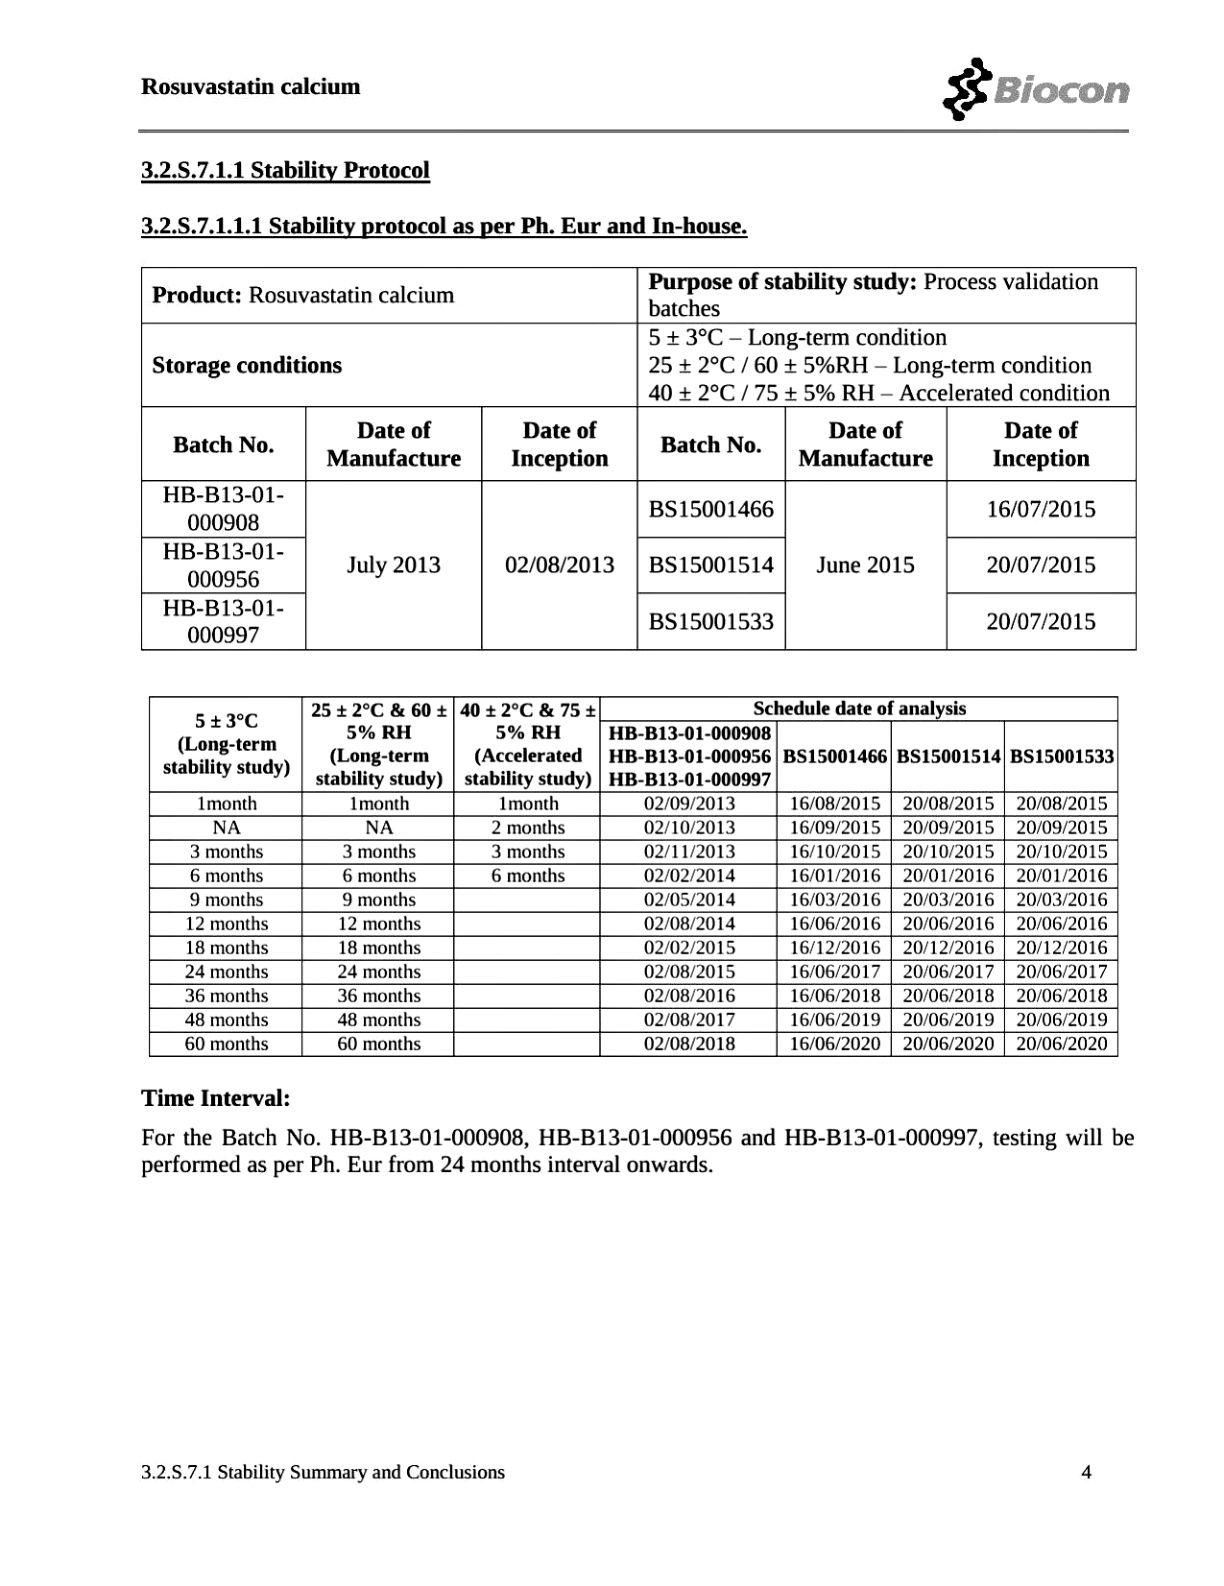merged_cells: (140, 265, 1138, 652), (147, 695, 1120, 1056)
